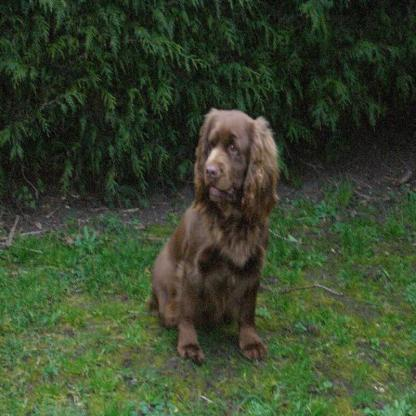Sussex_spaniel: (145, 105, 280, 366)
